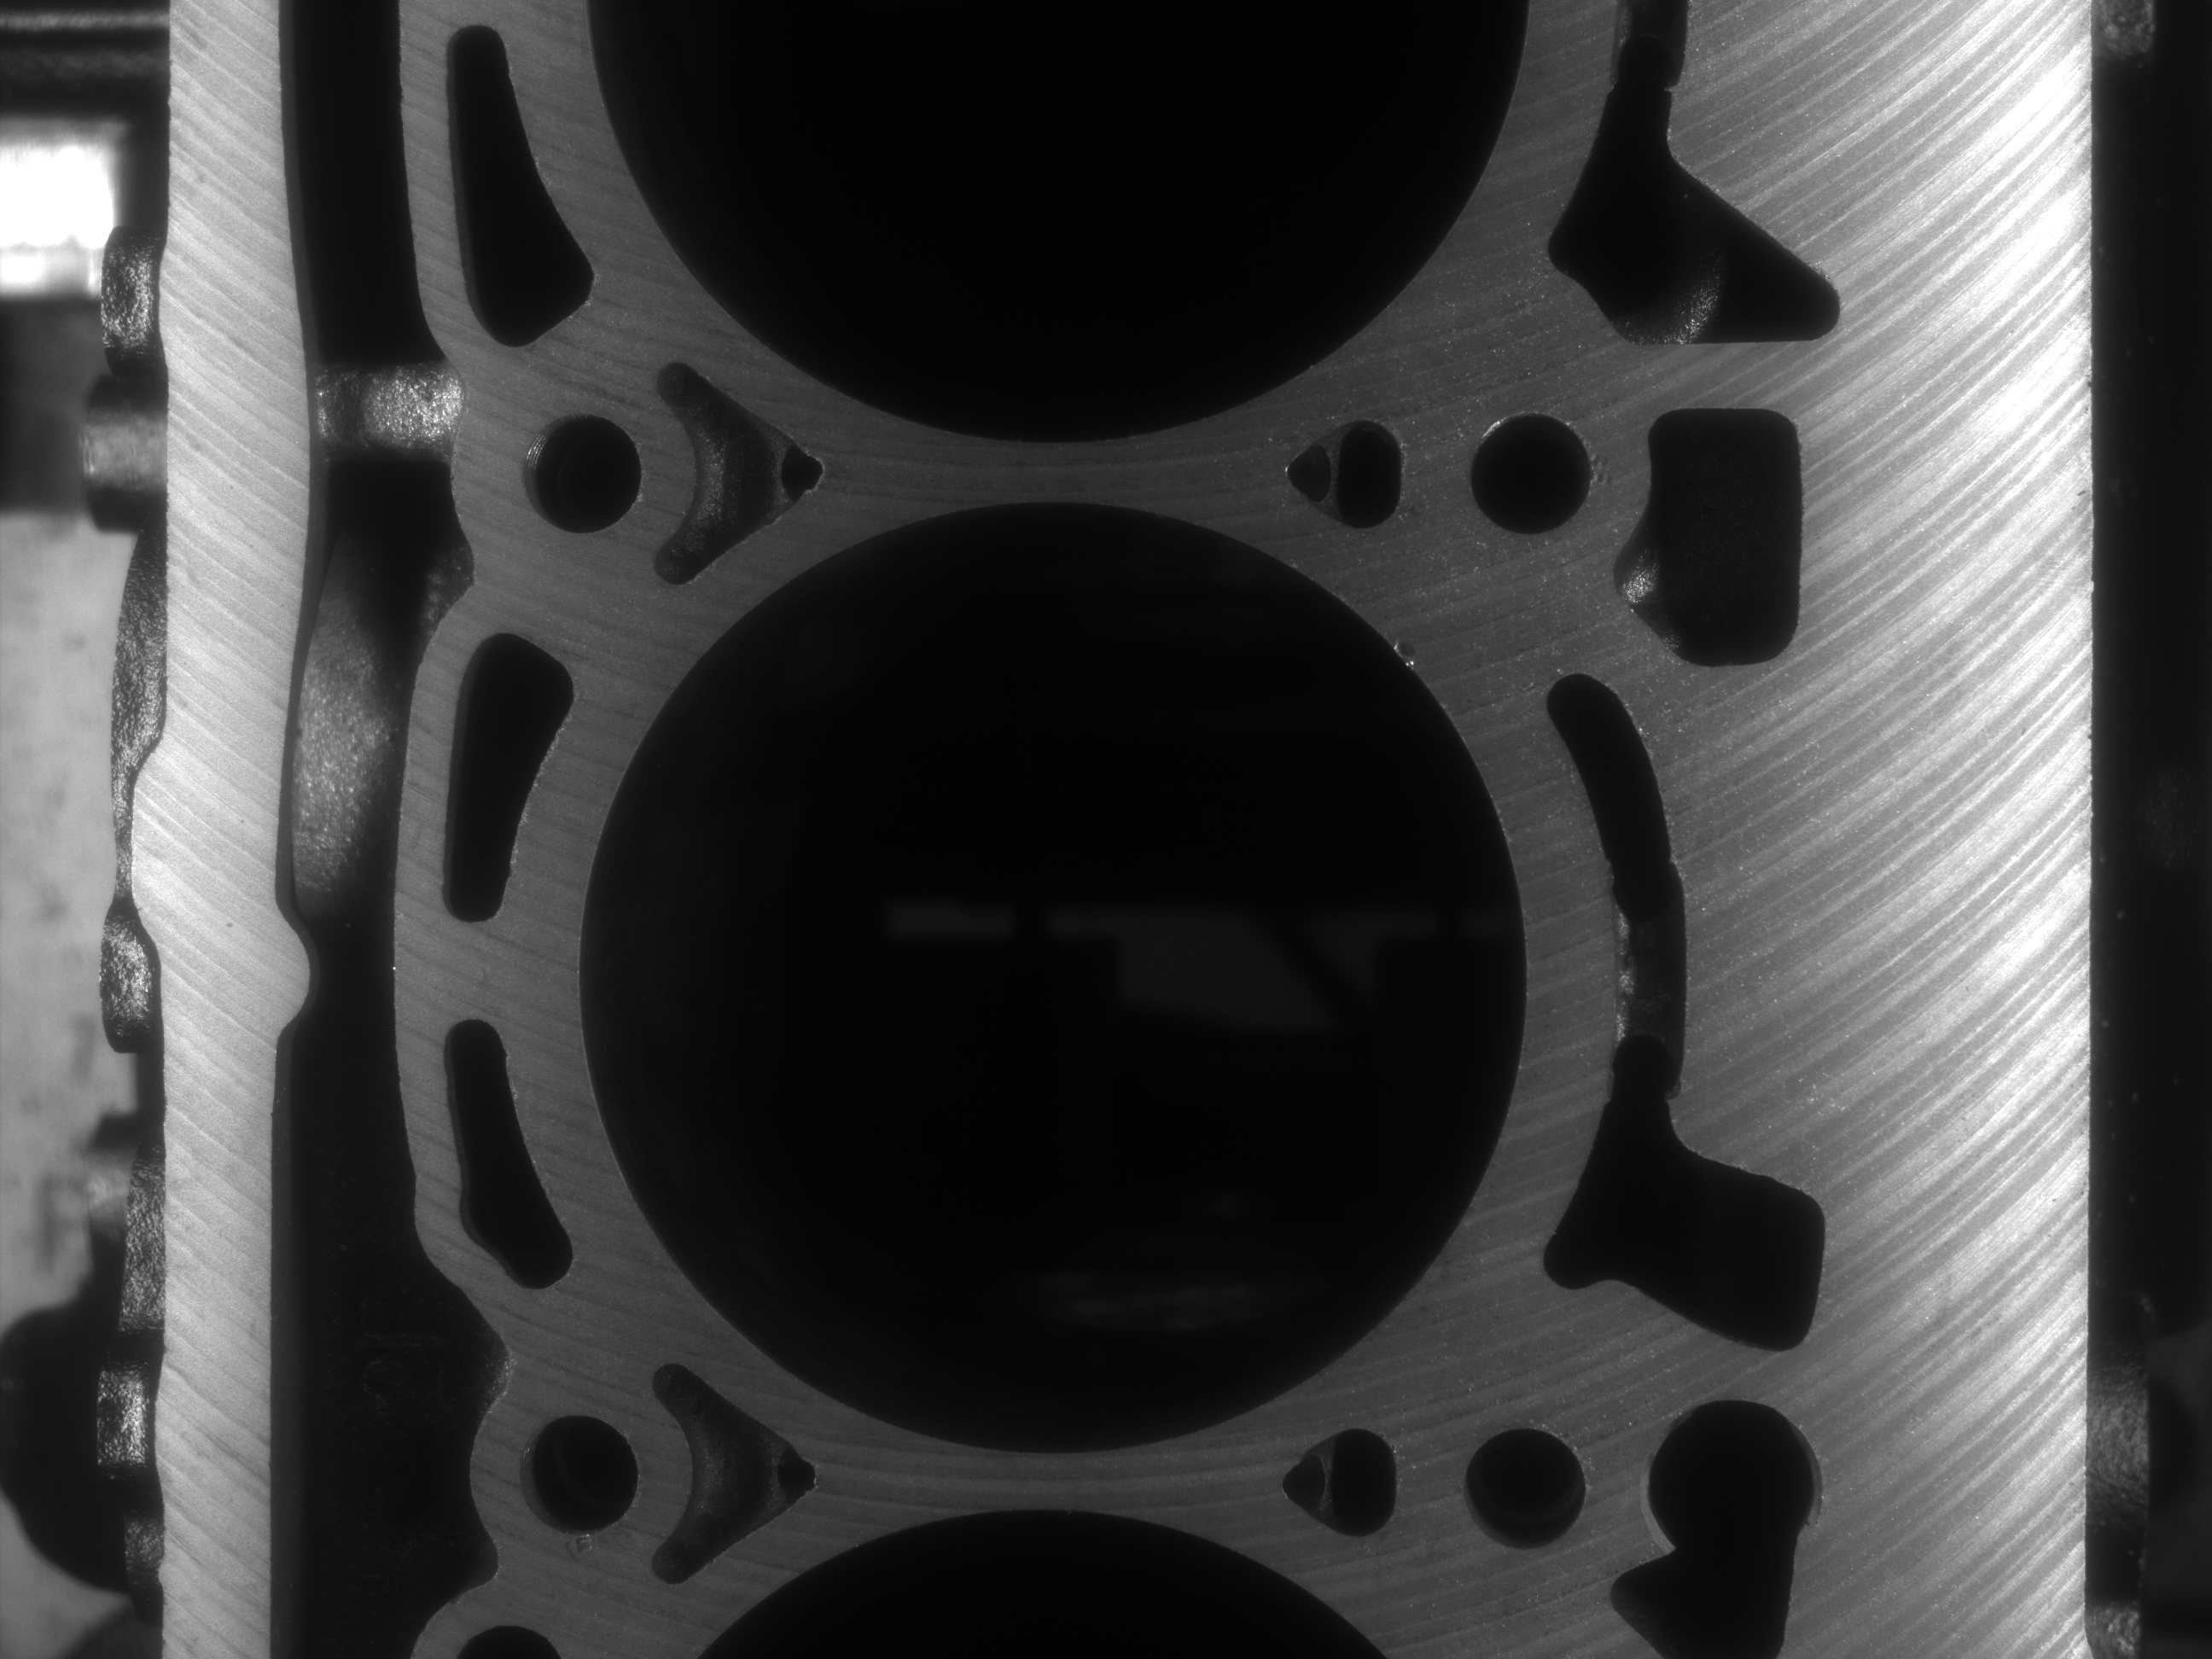sandhole: (1376, 622, 1440, 685), (1585, 439, 1623, 504), (566, 1523, 604, 1565)
